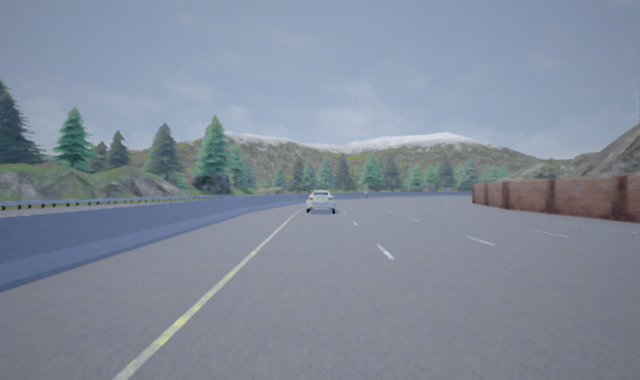vehicle: (305, 190, 336, 213)
